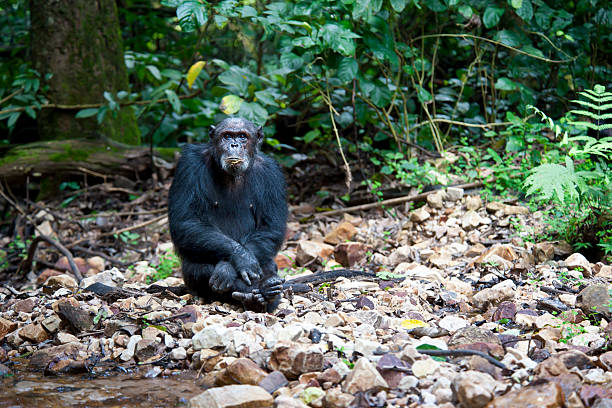chimpanzee: (202, 108, 273, 186)
